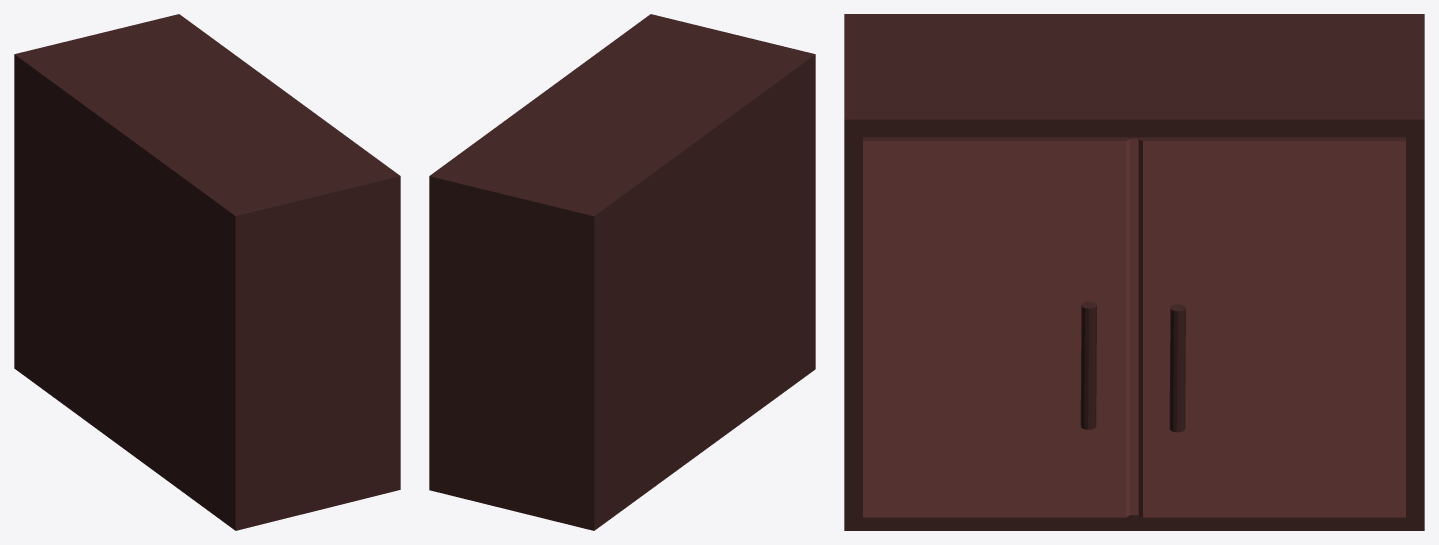
The model's file is countergarage.fbx.
3 views of the same model, side by side, from view 1: azimuth 30°, elevation 25°; view 2: azimuth 150°, elevation 25°; view 3: azimuth 270°, elevation 25° (orthographic). The views are drawn at different scales.
Parts seen in each view (by area): view 1: Cube; view 2: Cube; view 3: Cube.
Boxes of the visible parts, <box> form: Cube: <box>14,14,400,530</box>; Cube: <box>429,14,815,530</box>; Cube: <box>844,14,1424,530</box>.
Bounding box in the file's own units: 66.33 × 104 × 132.
